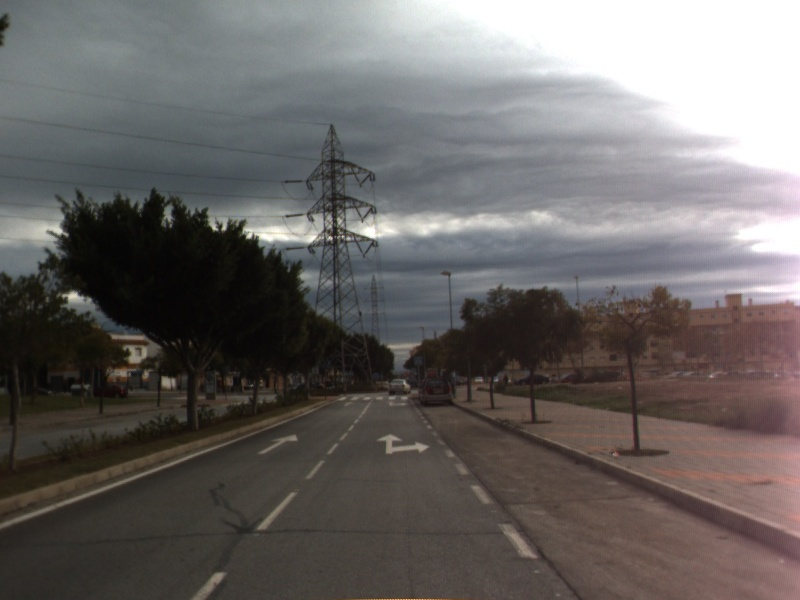STRAIGHT: (255, 432, 299, 456)
STRAIGHT_RIGHT: (375, 432, 432, 456)
